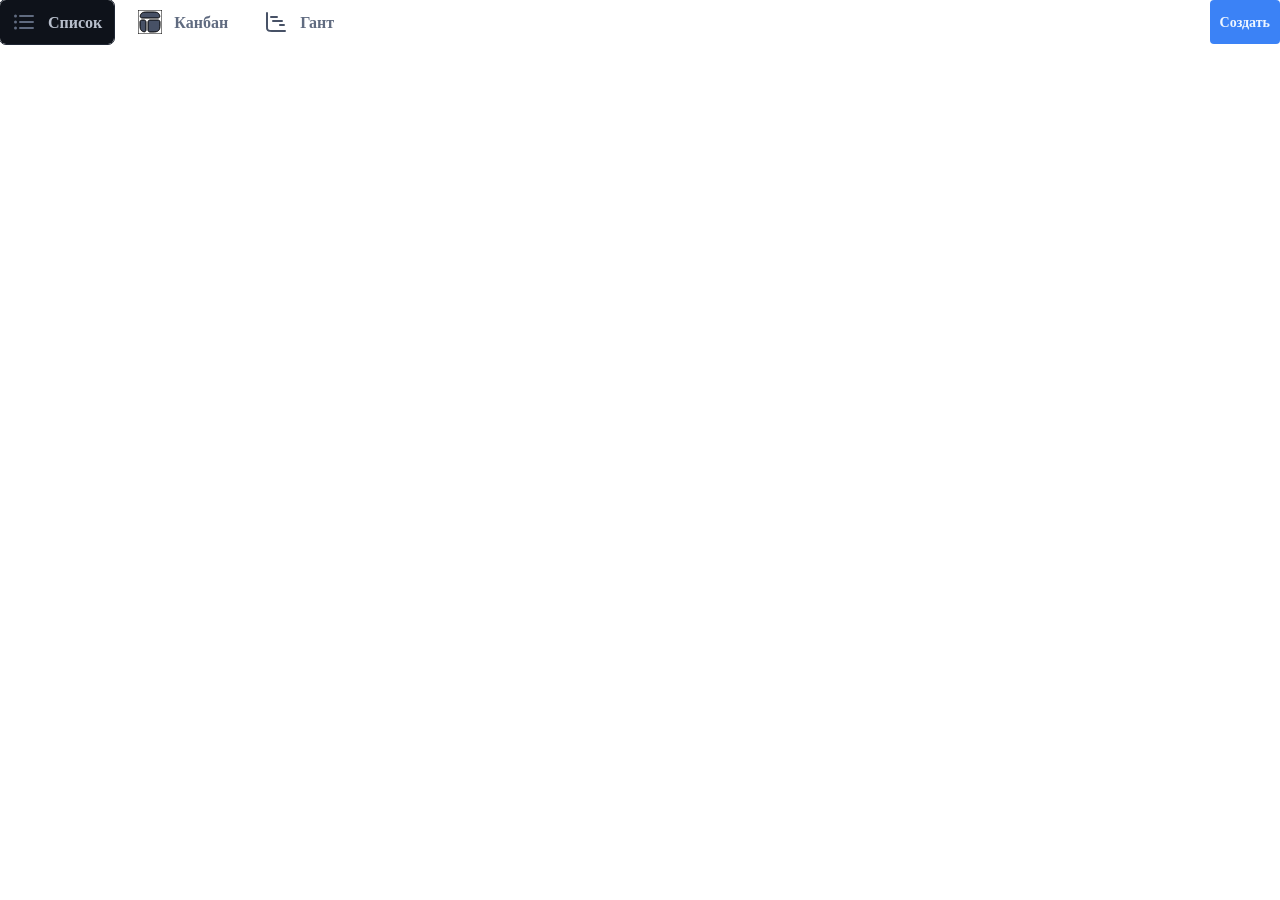
Test: Tab Component › opens modal on button click
What coordinates should you click on to do the following:
click the button with test id "create-button"
I would click on:
 (1245, 22)
Its box is [1210,0,1279,44].
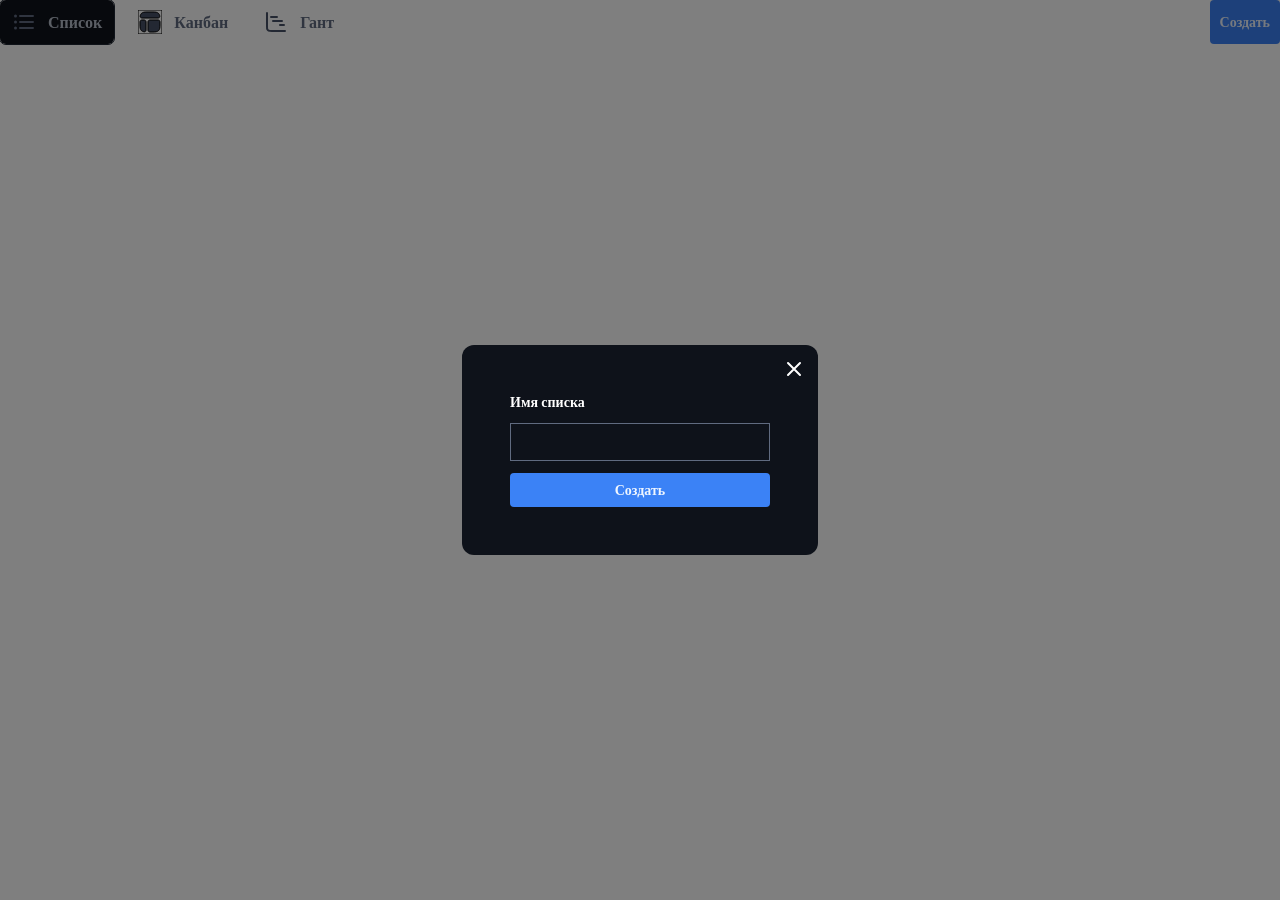
Now the field labelled "Имя списка" is shown, box [510,423,770,461]
